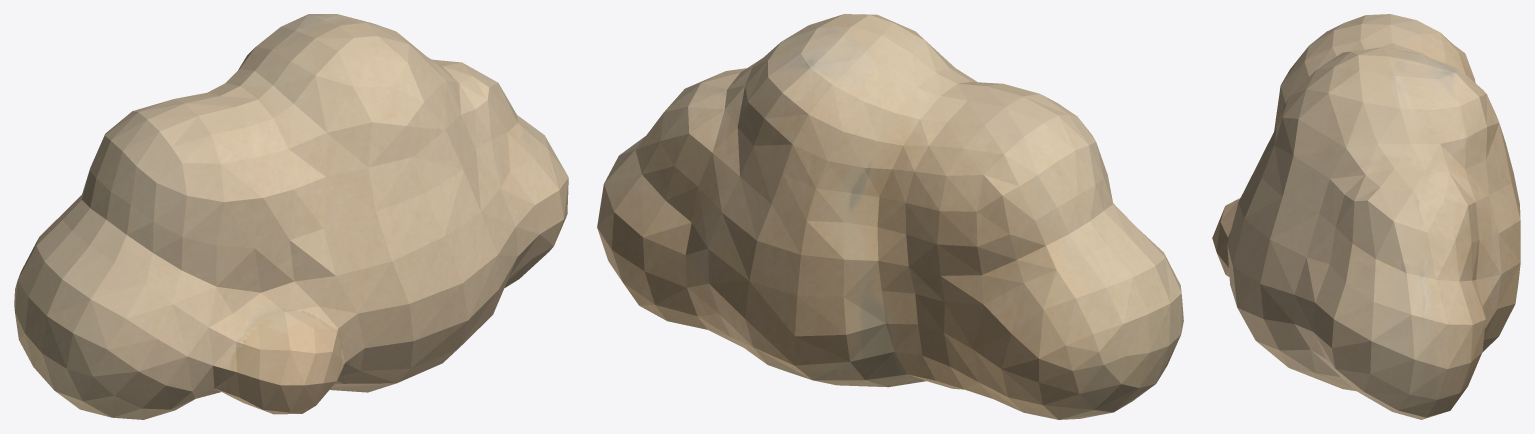
Rendered from Cloud_001.fbx.
3 renders of one model, left to right at view 1: azimuth 30°, elevation 25°; view 2: azimuth 150°, elevation 25°; view 3: azimuth 270°, elevation 25°, orthographic. The views are drawn at different scales.
Visible parts, largest first — view 1: Cloud.001; view 2: Cloud.001; view 3: Cloud.001.
Boxes of the visible parts, left/top/right/bottom form: Cloud.001: left=14, top=14, right=568, bottom=419; Cloud.001: left=597, top=14, right=1183, bottom=419; Cloud.001: left=1212, top=14, right=1520, bottom=419.
Bounding box in the file's own units: 100 × 62.66 × 53.79.
